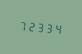four: (54, 21, 62, 35)
seven: (18, 18, 26, 32)
three: (36, 19, 44, 34), (45, 20, 53, 35)
two: (27, 18, 35, 33)
